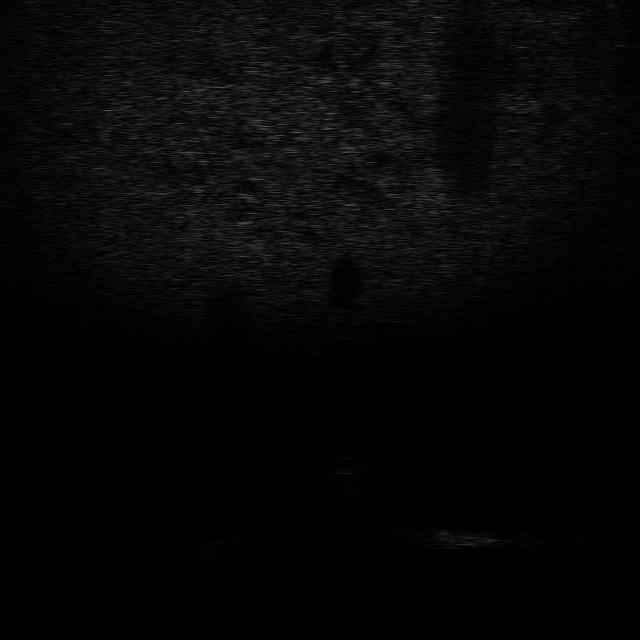ball: (326, 448, 369, 480)
metal bucket: (410, 521, 511, 553)
tyre: (196, 534, 246, 560)
